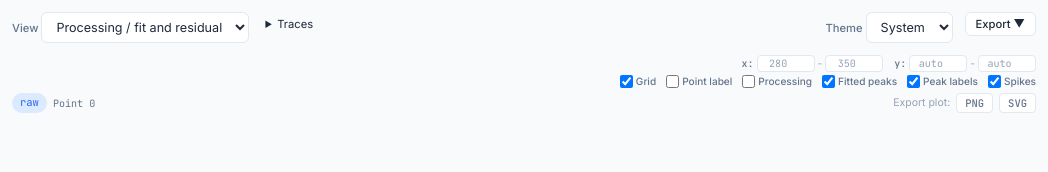
Scenario: Evidence desk › renders emission-only x, disables Raman artifacts and exposes incompatible domains
The image size is (1048, 172).
Select "Luminescence (nm)" in the dropdown labelled "View" at (145, 28), box [41, 12, 249, 43]
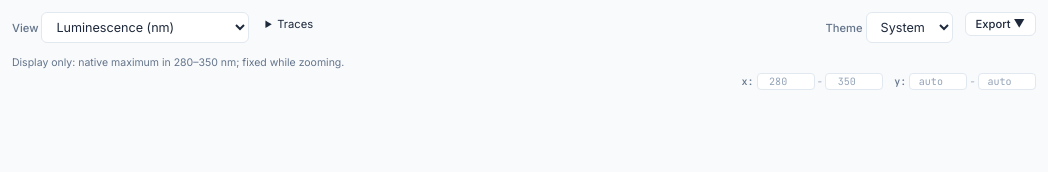
Select "Raman overlay" in the dropdown labelled "View" at (145, 28), box [41, 12, 249, 43]
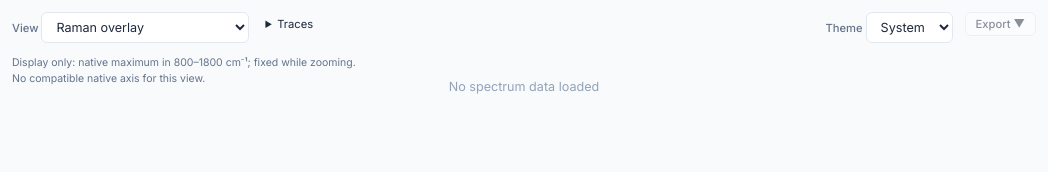
Expected: the text "No compatible native axis" is shown, [12, 72, 205, 85]
Expected: the button with class "export-trigger" is disabled, [965, 12, 1036, 36]
